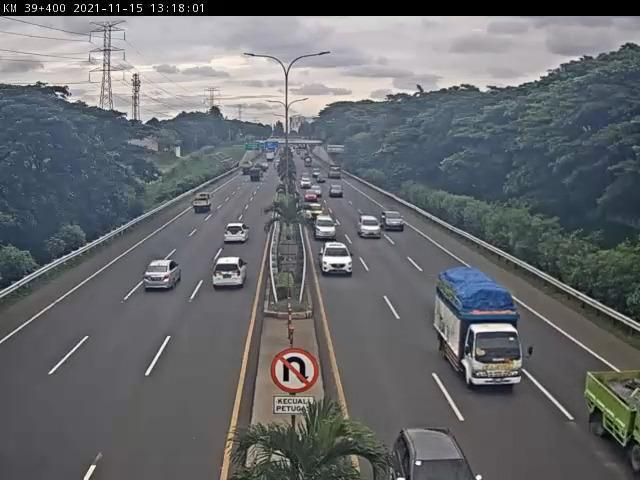car: (319, 242, 356, 281), (213, 254, 250, 292), (146, 260, 185, 292), (224, 222, 251, 249), (359, 214, 384, 240), (314, 214, 337, 242), (383, 210, 407, 232)
truck: (436, 269, 528, 390), (193, 194, 213, 214)
